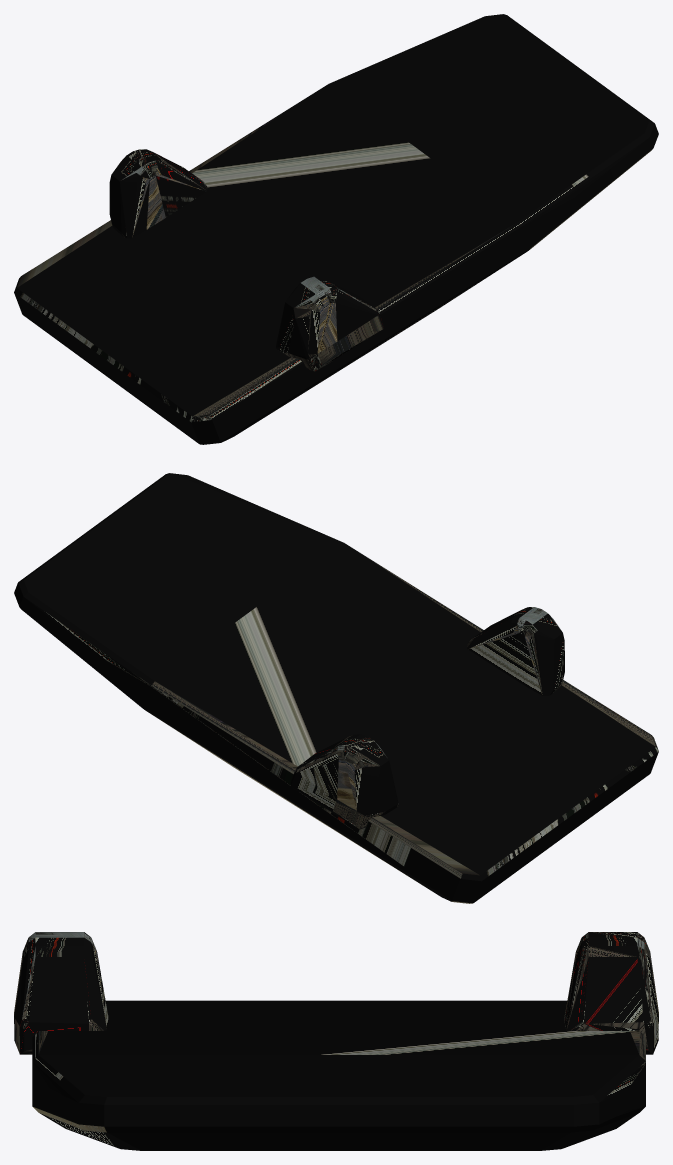
Rendered from door_front_physics.fbx.
3 views of the same model, one above another, from view 1: azimuth 30°, elevation 25°; view 2: azimuth 150°, elevation 25°; view 3: azimuth 270°, elevation 25° (orthographic). The views are drawn at different scales.
Visible parts, largest first — view 1: door_physics, door_physics.002, door_physics.001; view 2: door_physics, door_physics.001, door_physics.002; view 3: door_physics, door_physics.002, door_physics.001.
Boxes of the visible parts, x1=… form: door_physics: x1=14, y1=14, x2=658, y2=444; door_physics.002: x1=276, y1=276, x2=383, y2=371; door_physics.001: x1=109, y1=149, x2=207, y2=238; door_physics: x1=14, y1=473, x2=658, y2=903; door_physics.001: x1=290, y1=734, x2=398, y2=829; door_physics.002: x1=467, y1=607, x2=564, y2=695; door_physics: x1=32, y1=1000, x2=645, y2=1150; door_physics.002: x1=14, y1=932, x2=108, y2=1054; door_physics.001: x1=564, y1=932, x2=658, y2=1054.
Bounding box in the file's own units: 292 × 400 × 164.
